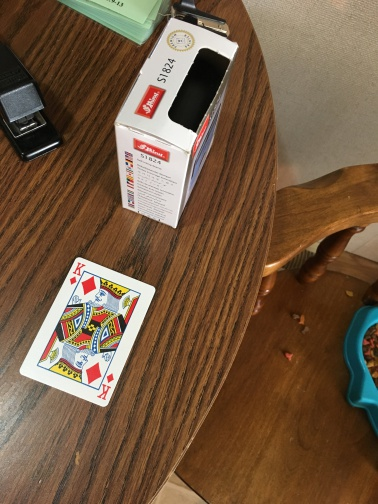king: (17, 257, 157, 405)
